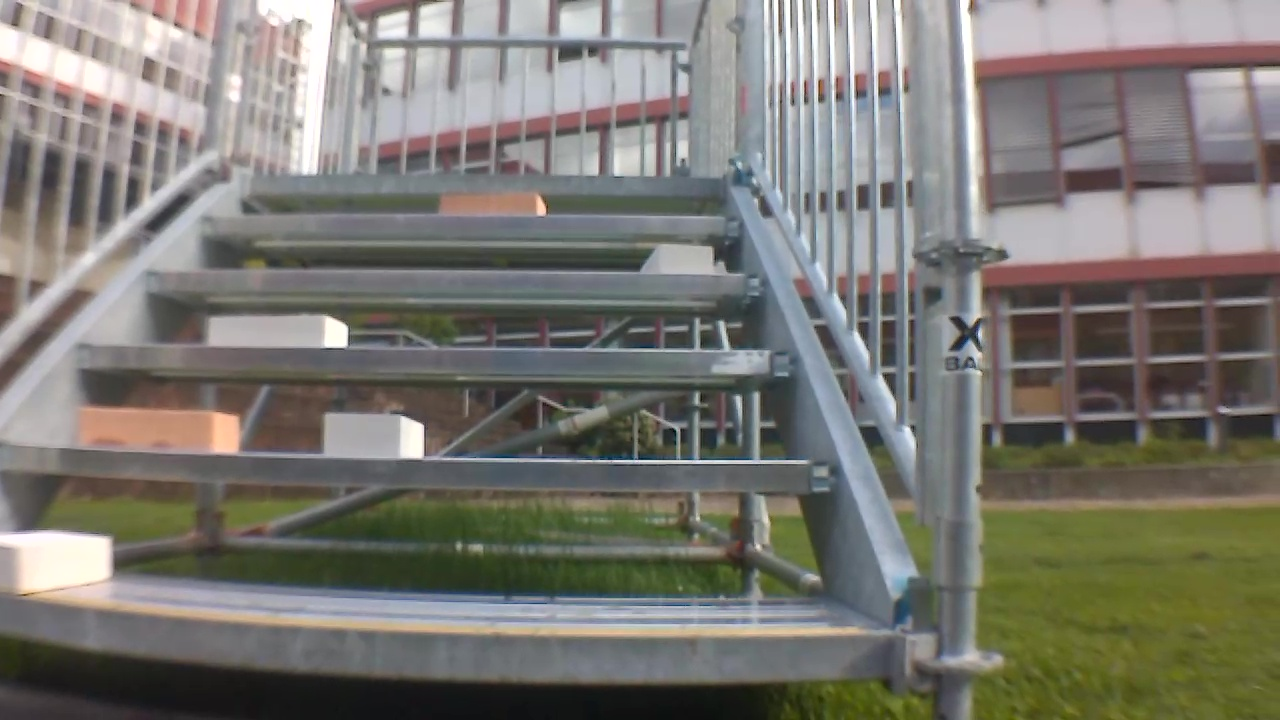brick: (81, 408, 238, 451), (1, 533, 109, 592), (326, 412, 424, 458), (210, 316, 347, 348), (441, 193, 545, 215), (639, 244, 712, 273)
edge: (3, 601, 885, 683), (2, 444, 835, 490), (79, 345, 793, 375), (145, 270, 765, 295), (198, 213, 743, 235), (246, 174, 728, 196)
stairs: (3, 3, 1001, 713)
steps: (5, 160, 895, 693)
